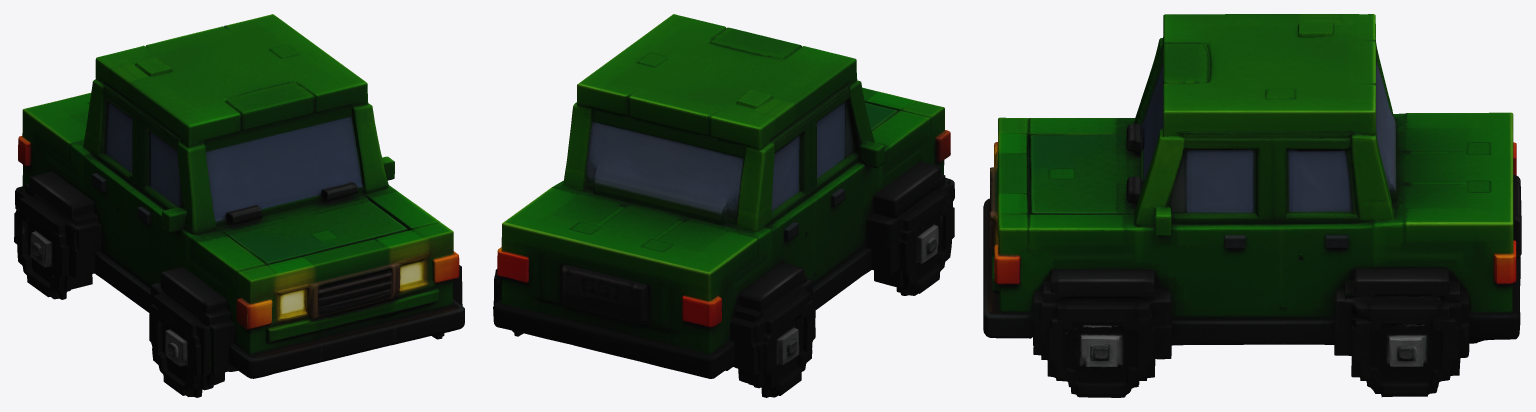
The model's file is Car_Green.glb.
3 renders of one model, left to right at view 1: azimuth 30°, elevation 25°; view 2: azimuth 150°, elevation 25°; view 3: azimuth 270°, elevation 25°, orthographic. The views are drawn at different scales.
Parts seen in each view (by area): view 1: geometry_0; view 2: geometry_0; view 3: geometry_0.
Boxes of the visible parts, x1,y1,x2,y2 form: geometry_0: (14, 14, 464, 397); geometry_0: (493, 14, 954, 397); geometry_0: (983, 14, 1521, 397).
Size of the model in its own units: 0.654 by 0.5482 by 0.9964.
Materials: 1 (1 with a texture image).
